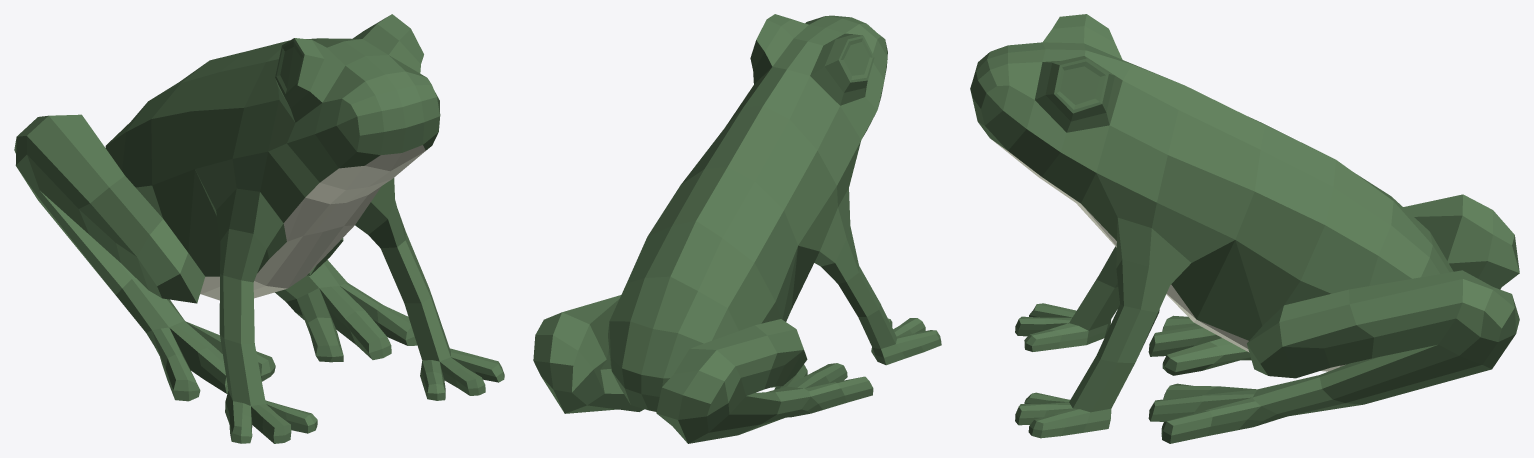
File: frog.fbx
3 views of the same model, side by side, from view 1: azimuth 30°, elevation 25°; view 2: azimuth 150°, elevation 25°; view 3: azimuth 270°, elevation 25° (orthographic). The views are drawn at different scales.
Parts seen in each view (by area): view 1: 11frogFinal; view 2: 11frogFinal; view 3: 11frogFinal.
Boxes of the visible parts, x1,y1,x2,y2 form: 11frogFinal: (14,14,504,443); 11frogFinal: (533,14,941,443); 11frogFinal: (970,14,1519,443).
Size of the model in its own units: 0.131 by 0.1729 by 0.2448.
Materials: 1 (1 with a texture image).
